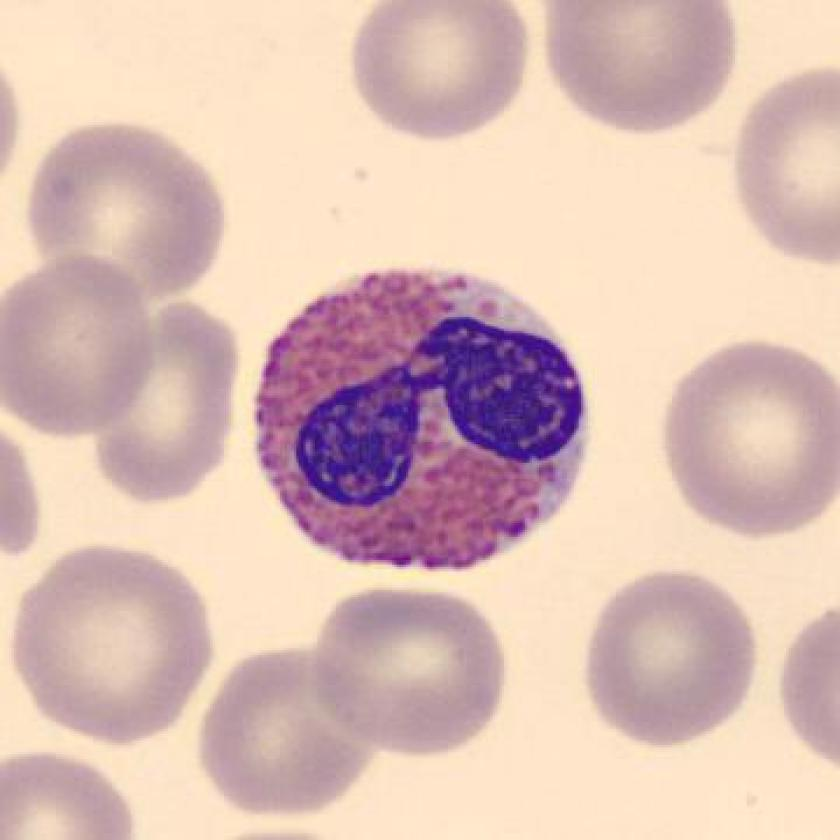eosinophil: (239, 247, 608, 587)
